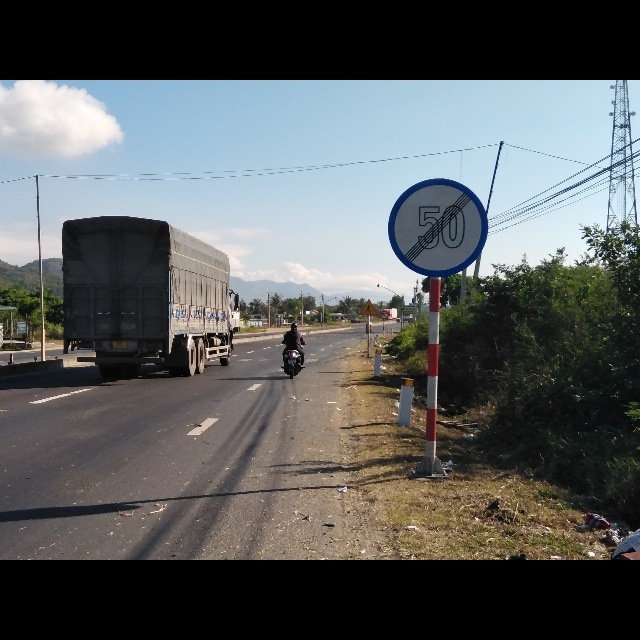Hết hạn chế tốc độ tối đa 50km/h: (385, 173, 488, 277)
